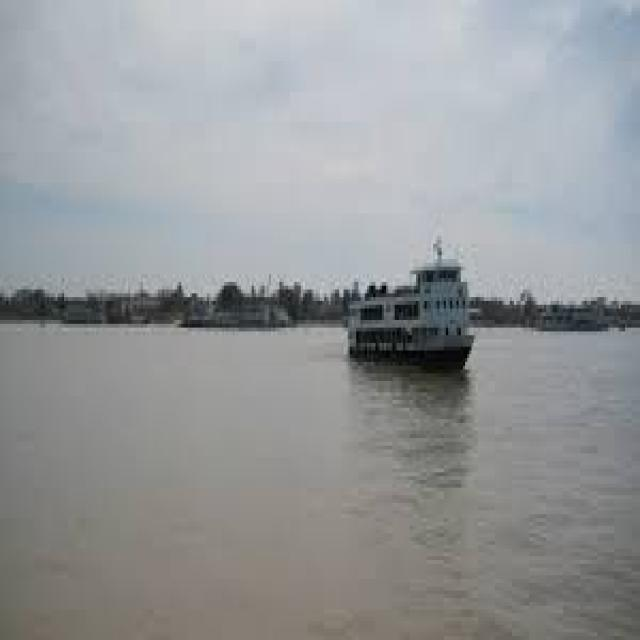passenger ship: (349, 244, 477, 377)
